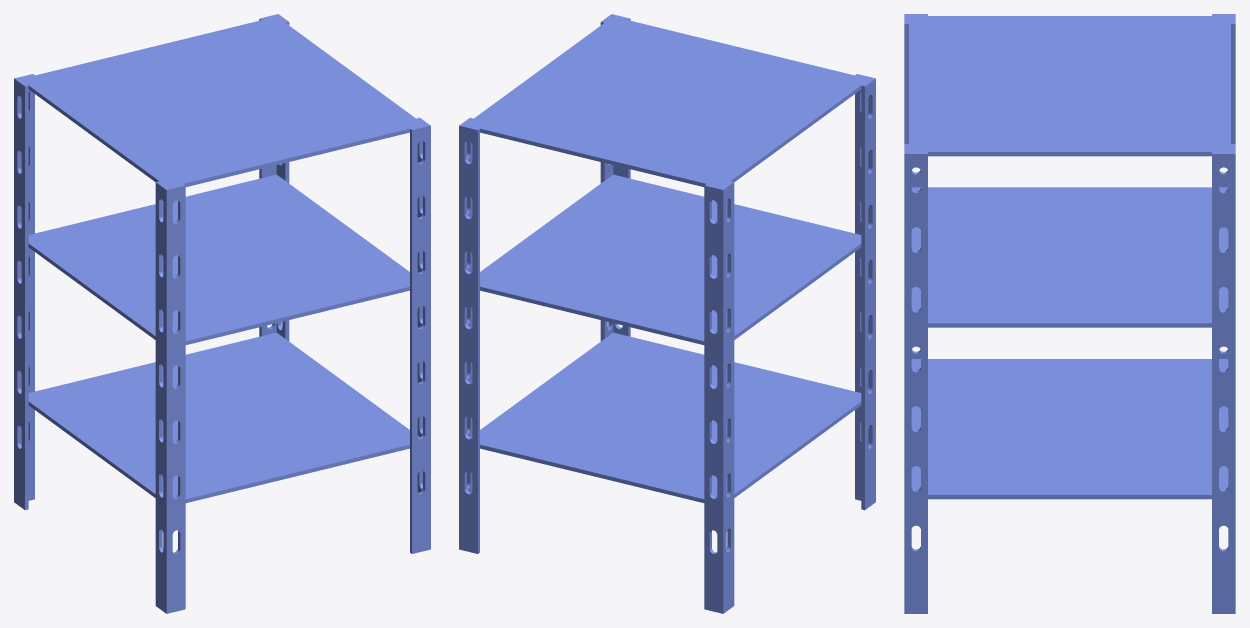
Rendered from shelf.dae.
3 renders of one model, left to right at view 1: azimuth 30°, elevation 25°; view 2: azimuth 150°, elevation 25°; view 3: azimuth 270°, elevation 25°, orthographic. The views are drawn at different scales.
Parts seen in each view (by area): view 1: Body12, Body10, Body11, Body7, Body6, Body5, Body8; view 2: Body12, Body10, Body11, Body5, Body8, Body7, Body6; view 3: Body12, Body10, Body11, Body6, Body8, Body5, Body7.
Part boxes in pixels (x1,y1,x2,y2): Body12: (20,16,424,187); Body10: (28,332,419,502); Body11: (28,174,409,344); Body7: (155,181,185,613); Body6: (410,117,430,553); Body5: (14,74,34,510); Body8: (259,14,289,341); Body12: (465,16,869,187); Body10: (470,332,861,502); Body11: (480,174,861,344); Body5: (704,181,734,613); Body8: (459,117,479,553); Body7: (855,74,875,510); Body6: (600,14,630,341); Body12: (909,16,1230,156); Body10: (911,359,1228,499); Body11: (911,187,1228,327); Body6: (904,144,927,613); Body8: (1212,144,1235,613); Body5: (1212,14,1235,358); Body7: (904,14,927,358).
Bounding box in the file's own units: 0.7 × 0.7 × 1.07.
